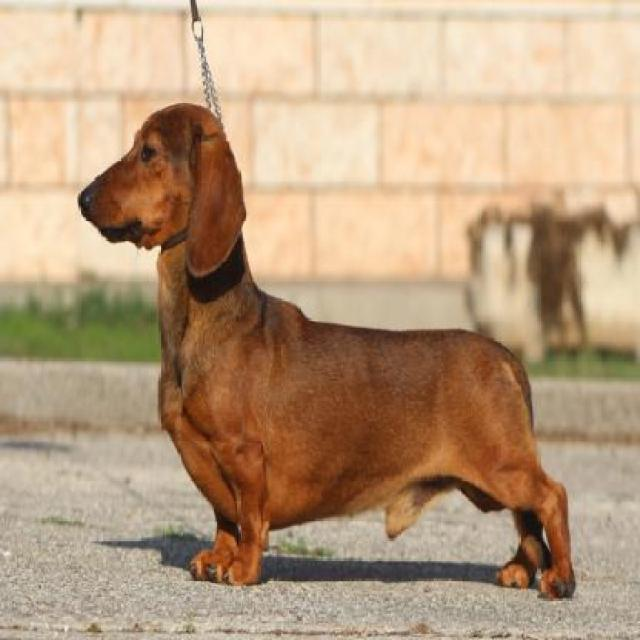Dog: (76, 89, 582, 605)
